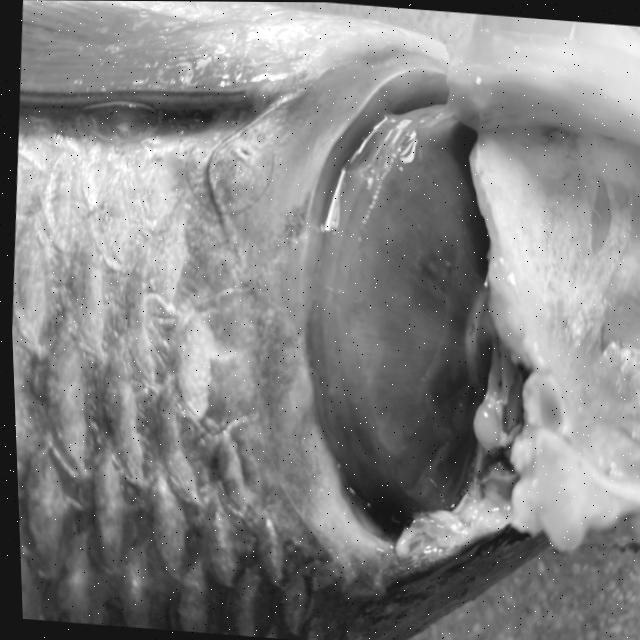Fresh: (284, 37, 560, 565)
